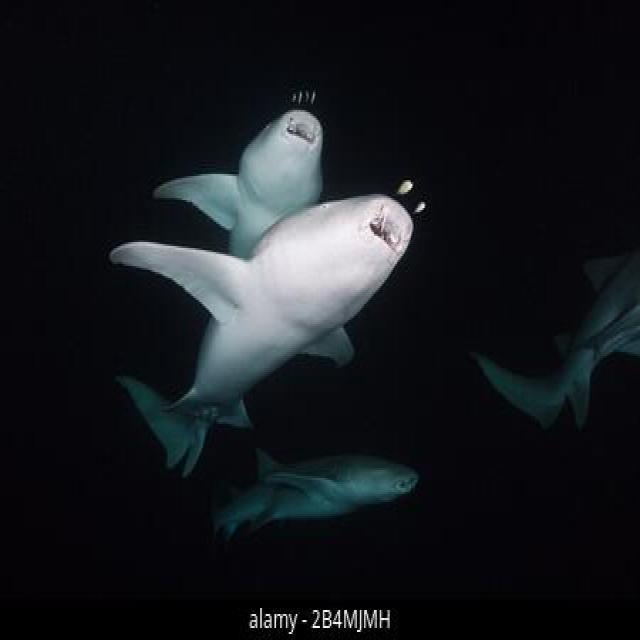Shark: (73, 84, 470, 538)
